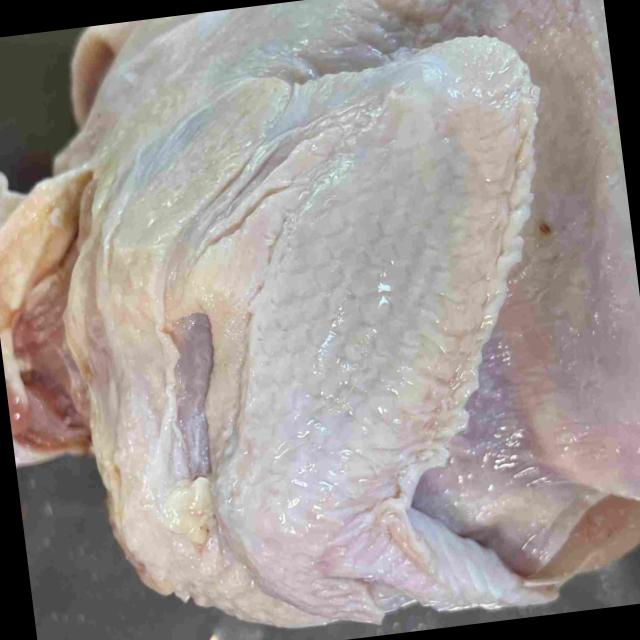back: (134, 0, 443, 103)
leg: (528, 0, 640, 496)
wing: (164, 35, 562, 617), (63, 11, 210, 105)
